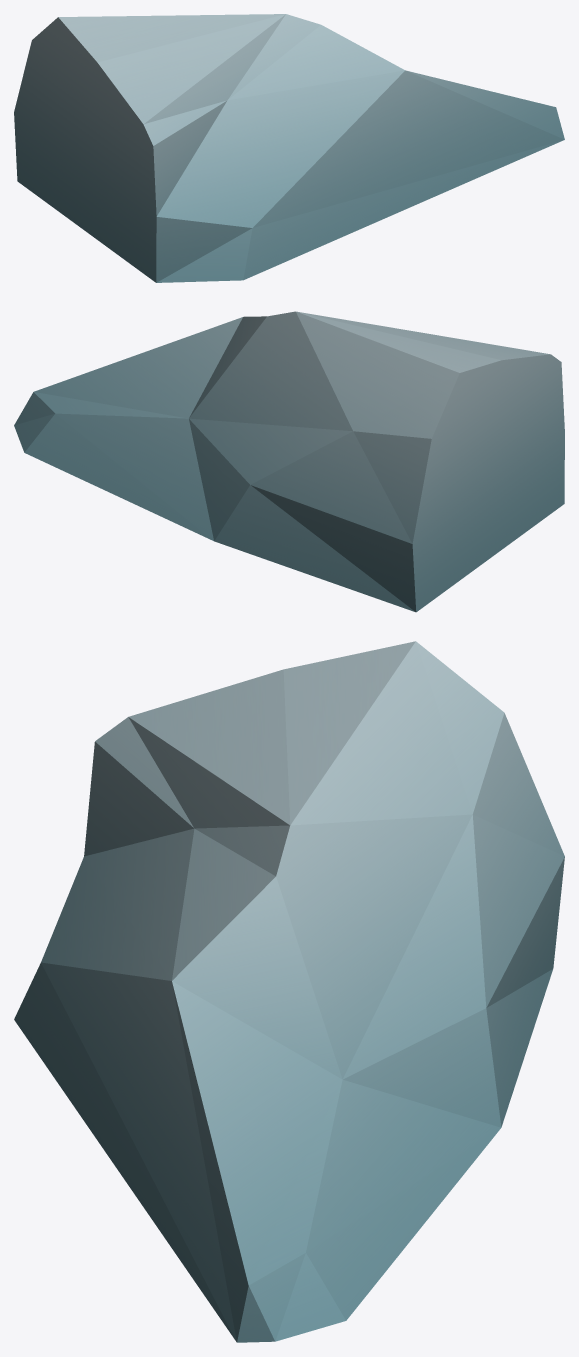
File: Rock_Tail.FBX
3 views of the same model, one above another, from view 1: azimuth 30°, elevation 25°; view 2: azimuth 150°, elevation 25°; view 3: azimuth 270°, elevation 25° (orthographic). The views are drawn at different scales.
Visible parts, largest first — view 1: SM_Rock_Tail; view 2: SM_Rock_Tail; view 3: SM_Rock_Tail.
Boxes of the visible parts, box(x1,y1,x2,y2) form: SM_Rock_Tail: box(14, 14, 564, 282); SM_Rock_Tail: box(14, 311, 564, 612); SM_Rock_Tail: box(14, 641, 564, 1342).
Bounding box in the file's own units: 44.93 × 18.21 × 27.71.
